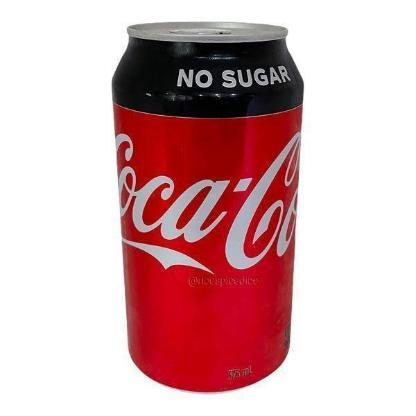Can: (112, 20, 306, 394)
